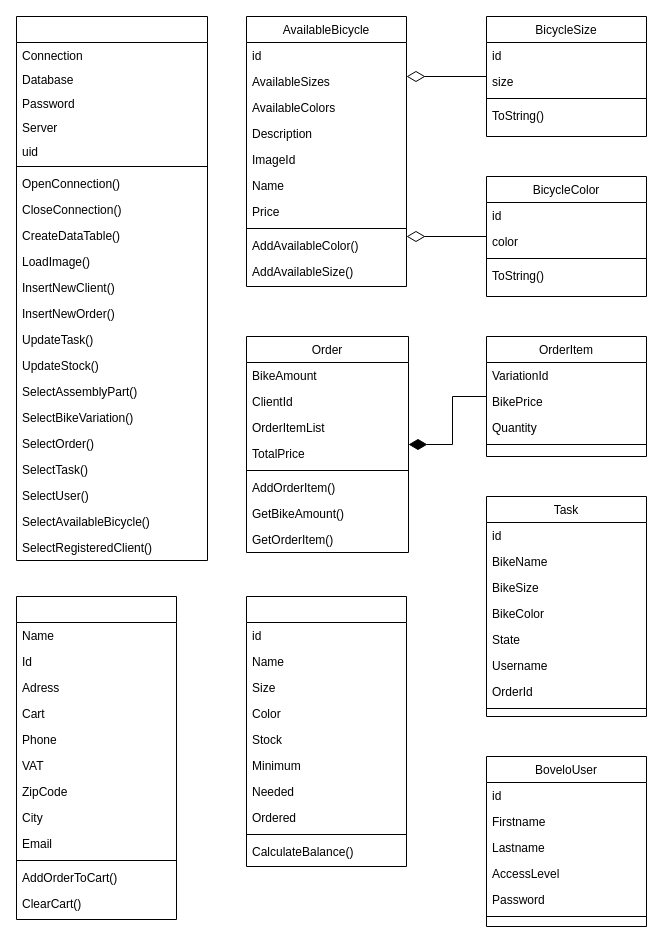
This 663x943 diagram has some shape labels left out. Each missing label, with the box of its shape:
Client: (16, 596, 176, 920)
DBConnect: (16, 16, 208, 560)
StockInfo: (246, 596, 406, 866)
